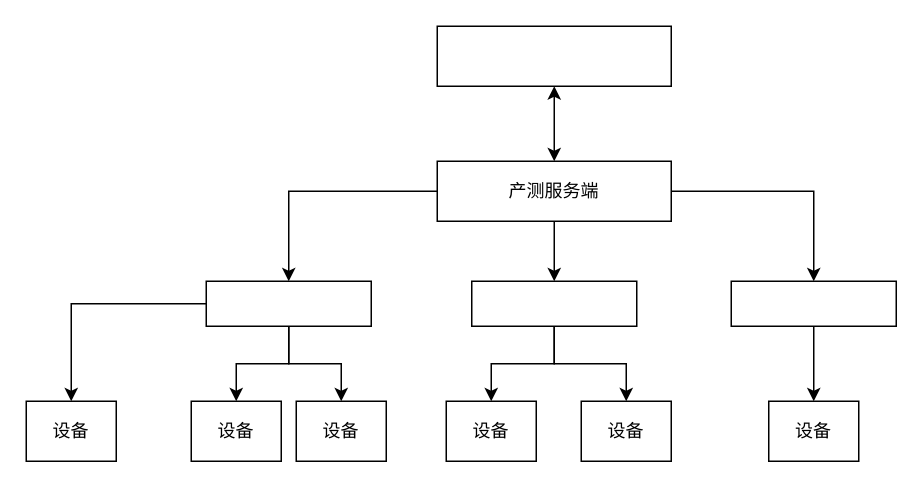
The diagram is 923 pixels wide and 488 high, and some of its shapes have lost their labels. Here are the shapes that lost their labels. From the top down, the box of each, then its label:
(436, 25, 671, 86): 产测web端
(205, 280, 371, 326): dongle1
(470, 280, 637, 326): dongle2
(730, 280, 896, 326): dongle3
